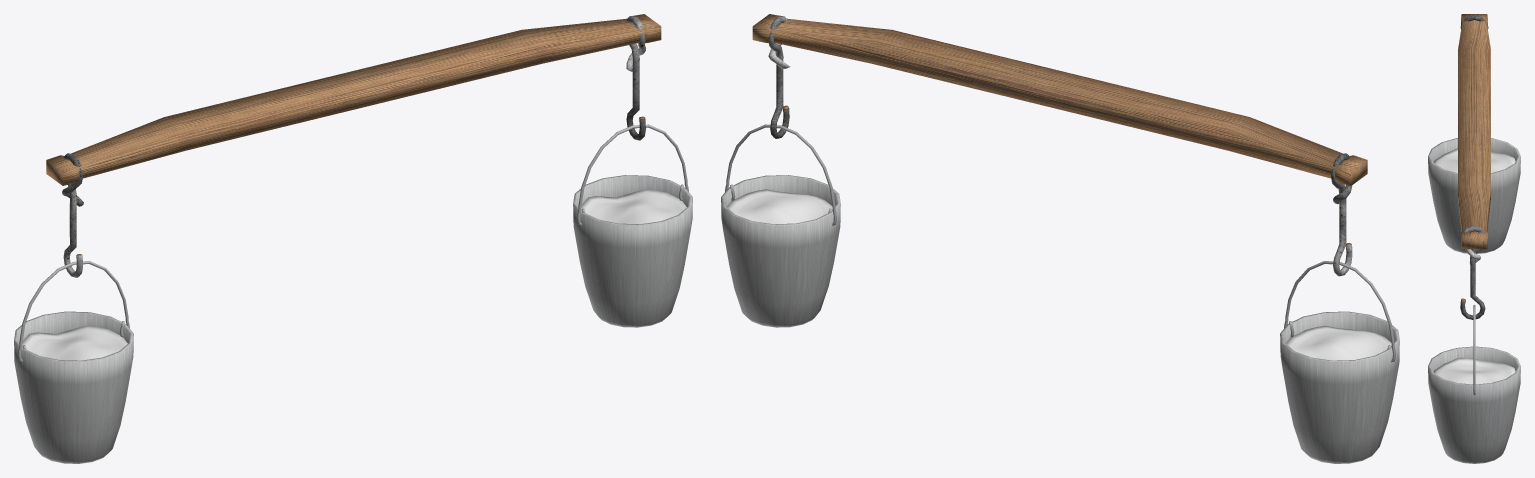
Rendered from Bunderwater.fbx.
3 renders of one model, left to right at view 1: azimuth 30°, elevation 25°; view 2: azimuth 150°, elevation 25°; view 3: azimuth 270°, elevation 25°, orthographic. The views are drawn at different scales.
Parts seen in each view (by area): view 1: Cylinder.008; view 2: Cylinder.008; view 3: Cylinder.008.
Part boxes in pixels (box(x1,y1,x2,y2)): Cylinder.008: box(14, 14, 692, 463); Cylinder.008: box(721, 14, 1399, 463); Cylinder.008: box(1428, 14, 1520, 463).
Size of the model in its own units: 151 by 23.61 by 64.46.
Materials: 4 (3 with a texture image).
